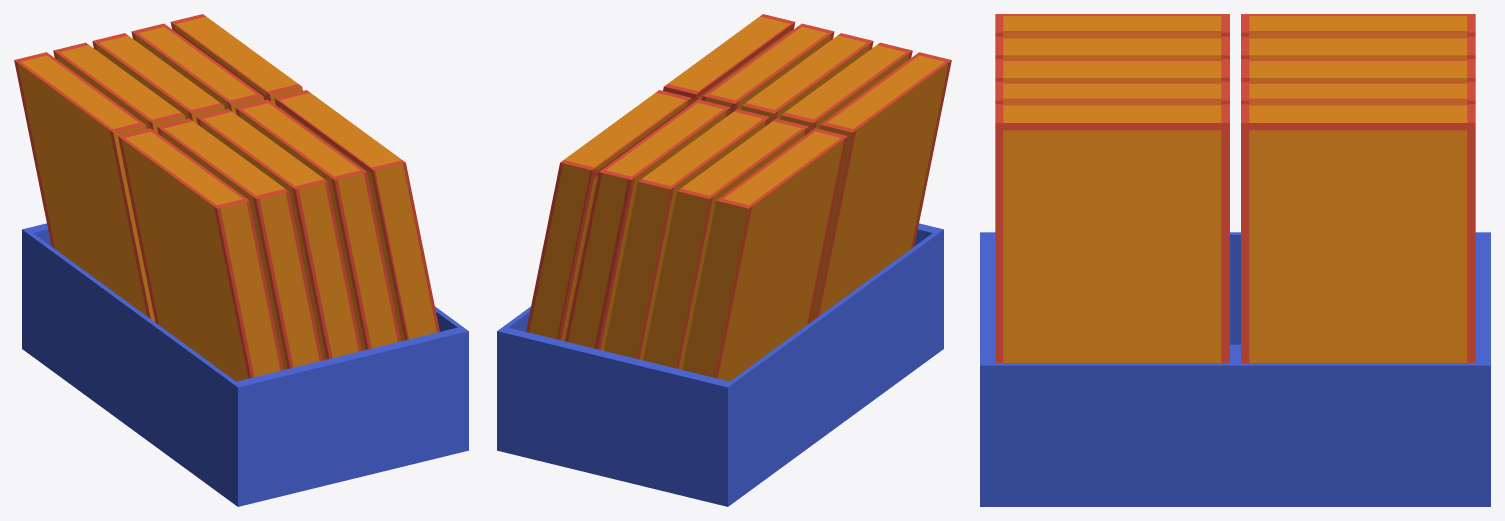
File: Backpulver.fbx
3 views of the same model, side by side, from view 1: azimuth 30°, elevation 25°; view 2: azimuth 150°, elevation 25°; view 3: azimuth 270°, elevation 25° (orthographic). The views are drawn at different scales.
Visible parts, largest first — view 1: Cube; view 2: Cube; view 3: Cube.
Part boxes in pixels (x1,y1,x2,y2): Cube: (14,14,468,506); Cube: (497,14,951,506); Cube: (980,14,1490,506).
Bounding box in the file's own units: 39.35 × 45.53 × 60.
